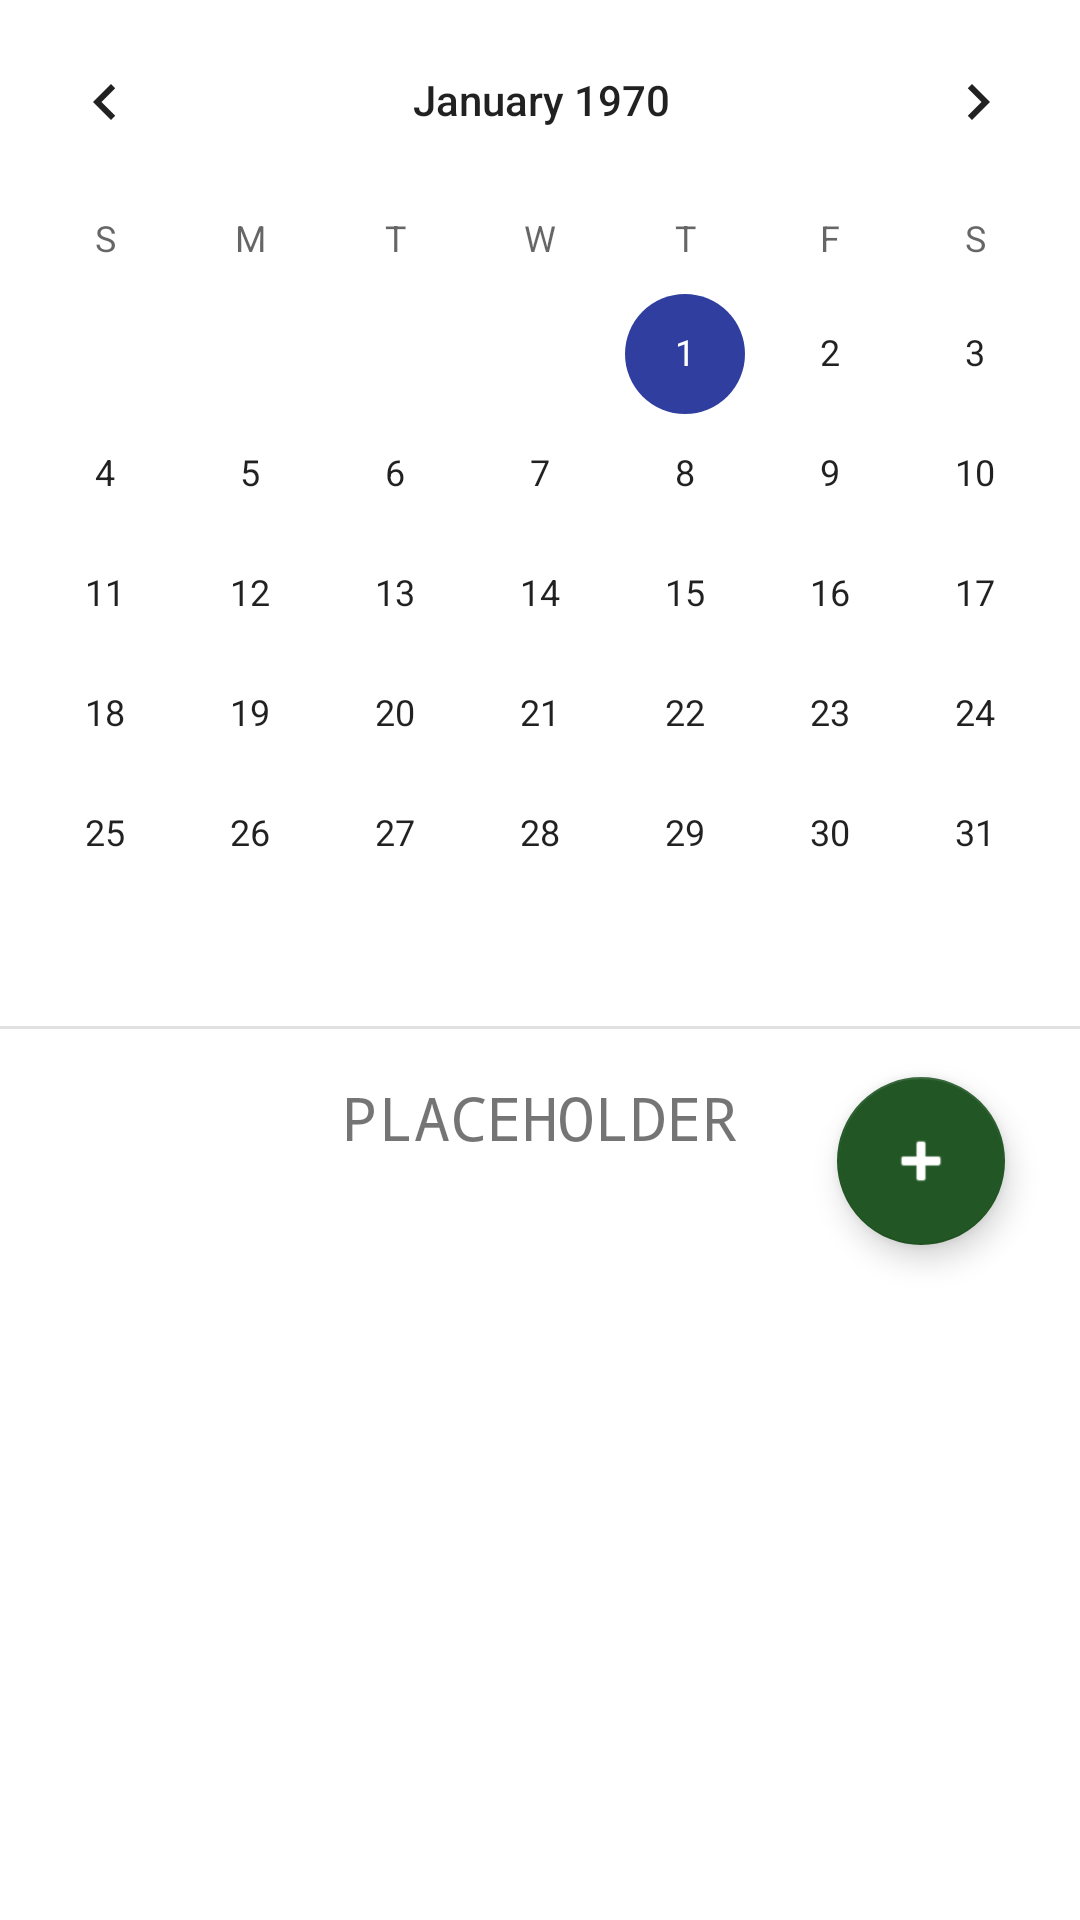

Icons on this 1080x1920 Android screen, each with its box as (x1, y1, x2, y2):
Add new Bank account: (837, 1077, 1005, 1245)
